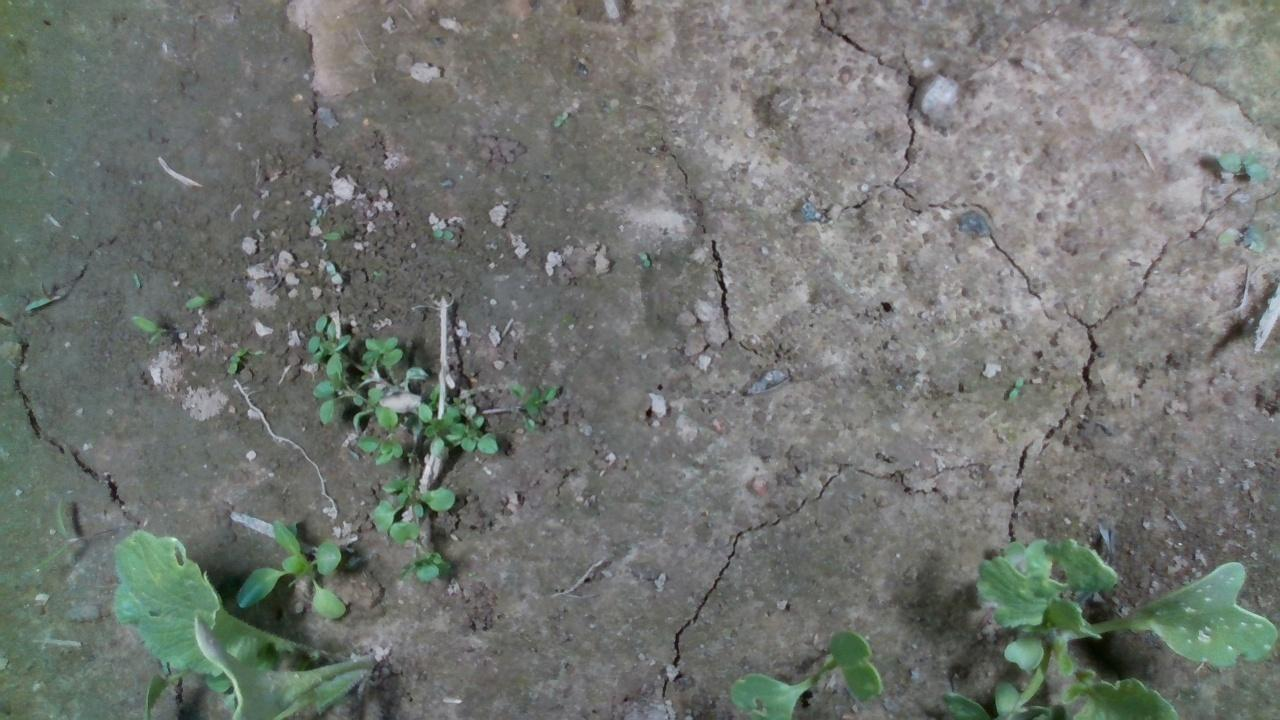weed: (1216, 144, 1268, 182), (129, 313, 167, 342), (181, 286, 215, 310), (223, 344, 248, 376), (1004, 372, 1023, 402), (551, 108, 569, 127), (429, 226, 453, 239), (637, 249, 650, 268), (130, 271, 142, 290)
